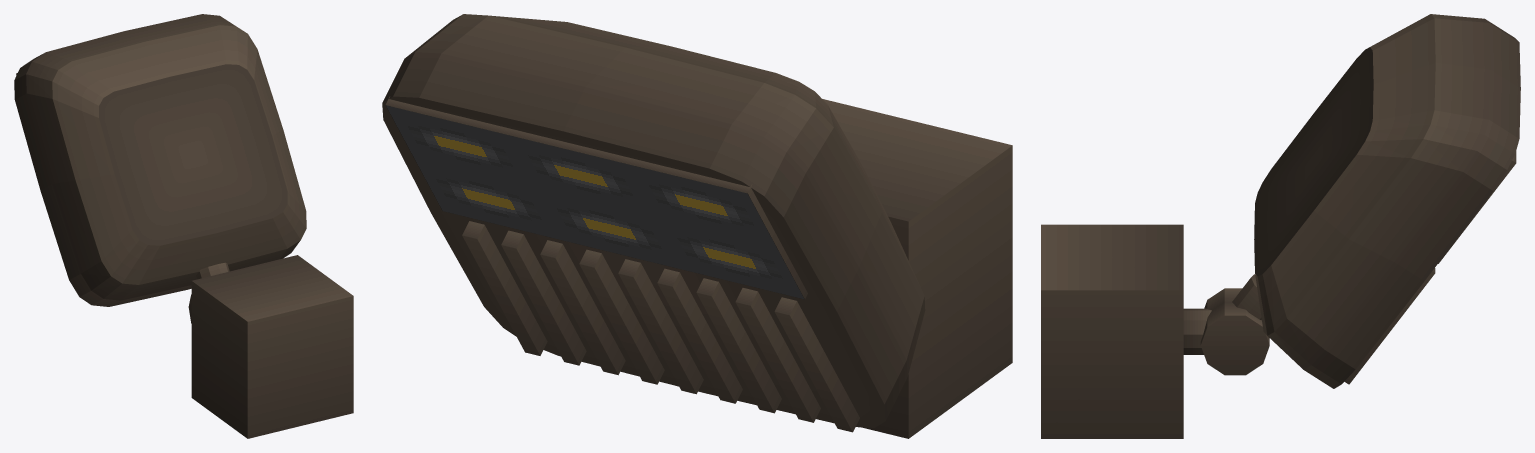
File: floodlight_lithdsxf3sf.obj
The picture shows the model from 3 angles, left to right: view 1: azimuth 30°, elevation 25°; view 2: azimuth 150°, elevation 25°; view 3: azimuth 270°, elevation 25°; orthographic projection. The views are drawn at different scales.
Visible parts, largest first — view 1: fixture; view 2: fixture; view 3: fixture.
Part boxes in pixels (bbox=[...]): fixture: bbox=[14, 14, 353, 438]; fixture: bbox=[382, 14, 1012, 438]; fixture: bbox=[1041, 14, 1520, 438].
Size of the model in its own units: 0.4643 by 0.5489 by 0.6949.
